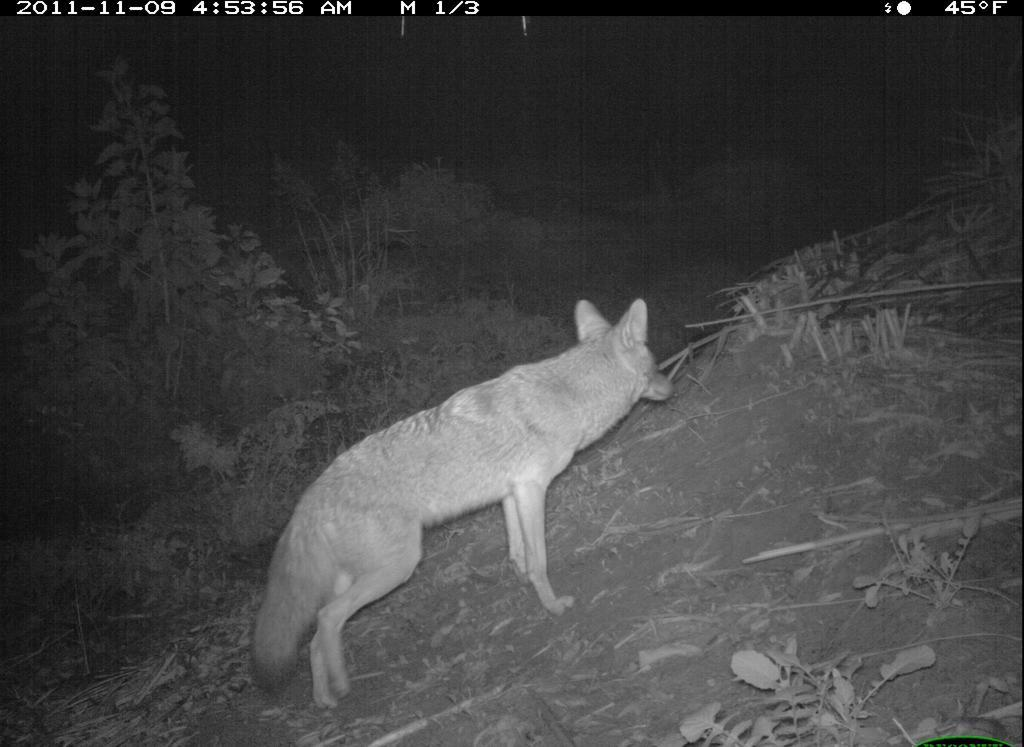coyote: (245, 290, 676, 721)
